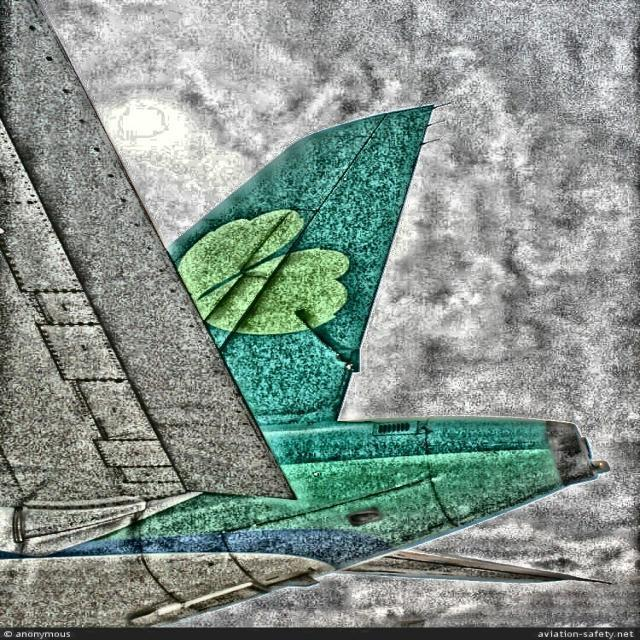crack: (287, 309, 361, 376)
